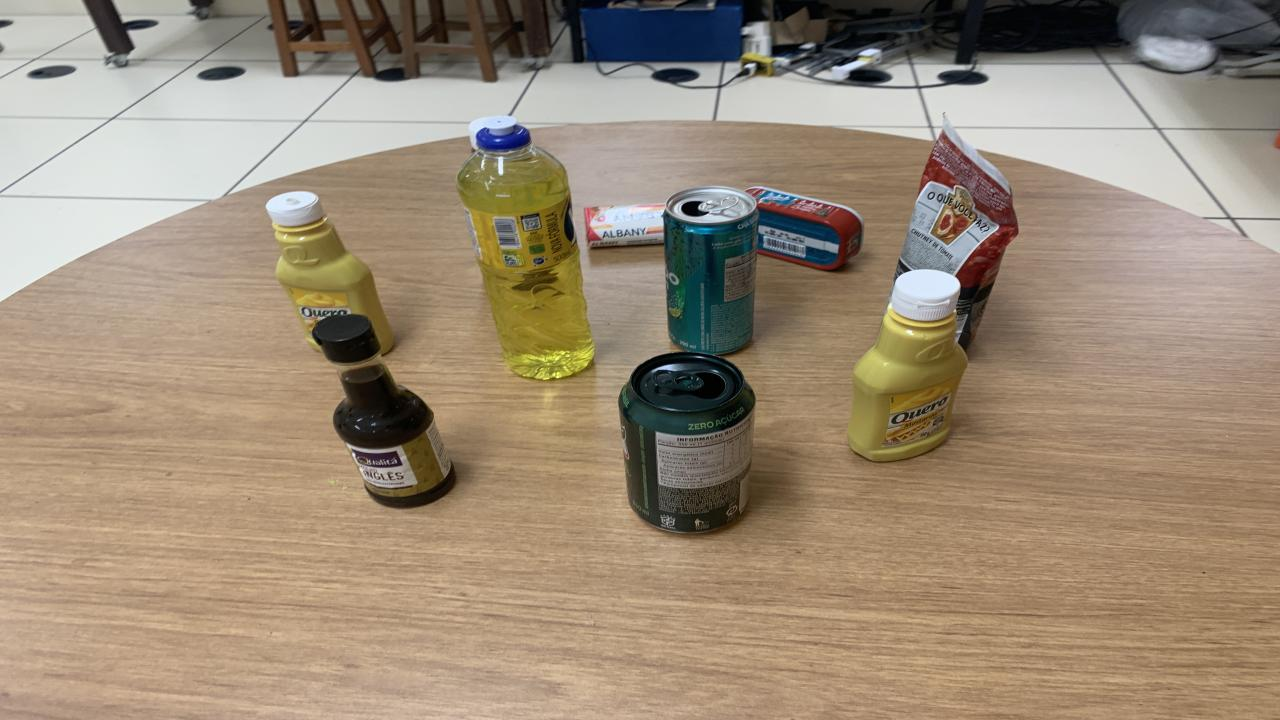Detergent-Cleanup_Items: (458, 116, 595, 379)
English_Sauce-Pantry_Items: (312, 315, 455, 508)
Guarana_Can-Drinks: (620, 352, 755, 532)
Mustard-Pantry_Items: (848, 270, 968, 461), (265, 191, 392, 352)
Soap-Cleanup_Items: (585, 204, 665, 248)
Tea-Drinks: (662, 186, 760, 354)
Tomato_Sauce-Pantry_Items: (898, 118, 1018, 349)
Tuna_Can-Pantry_Items: (745, 186, 865, 270)
